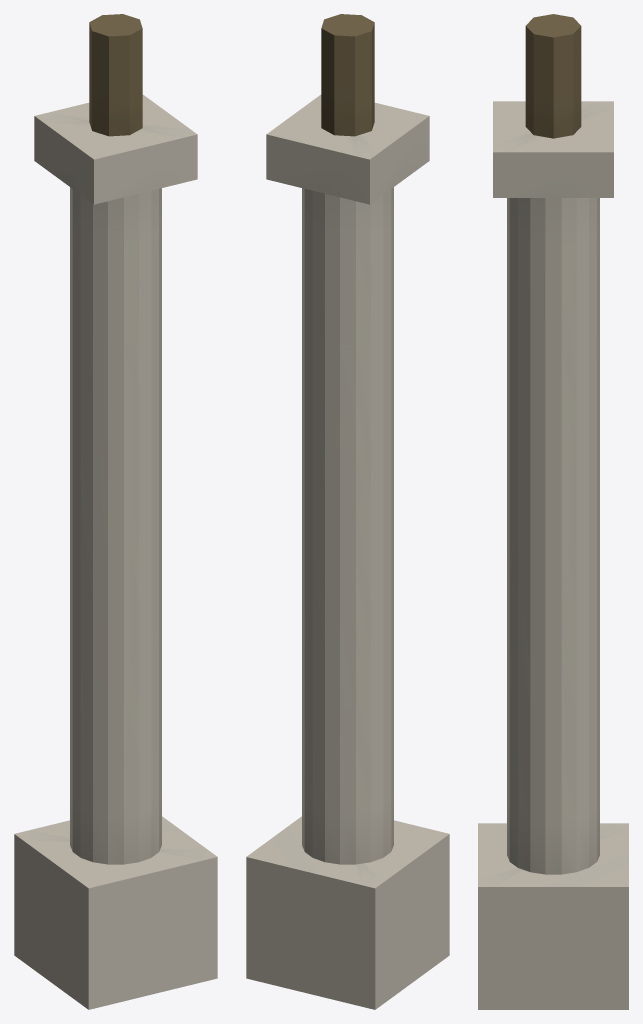
The model's file is trajans-column.glb.
3 views of the same model, side by side, from view 1: azimuth 30°, elevation 25°; view 2: azimuth 150°, elevation 25°; view 3: azimuth 270°, elevation 25° (orthographic).
Parts seen in each view (by area): view 1: p1_shaft, p0_base, p2_statue; view 2: p1_shaft, p0_base, p2_statue; view 3: p1_shaft, p0_base, p2_statue.
Boxes of the visible parts, x1,y1,x2,y2 form: p1_shaft: [70, 187, 161, 864]; p0_base: [14, 816, 217, 1009]; p2_statue: [34, 14, 197, 204]; p1_shaft: [302, 187, 393, 864]; p0_base: [246, 816, 449, 1009]; p2_statue: [266, 14, 429, 204]; p1_shaft: [507, 198, 599, 874]; p0_base: [478, 823, 628, 1009]; p2_statue: [493, 14, 613, 197].
Bounding box in the file's own units: 6 × 41.84 × 6.
